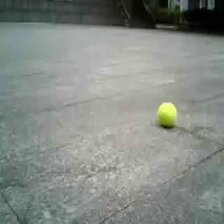tennis: (158, 103, 177, 128)
